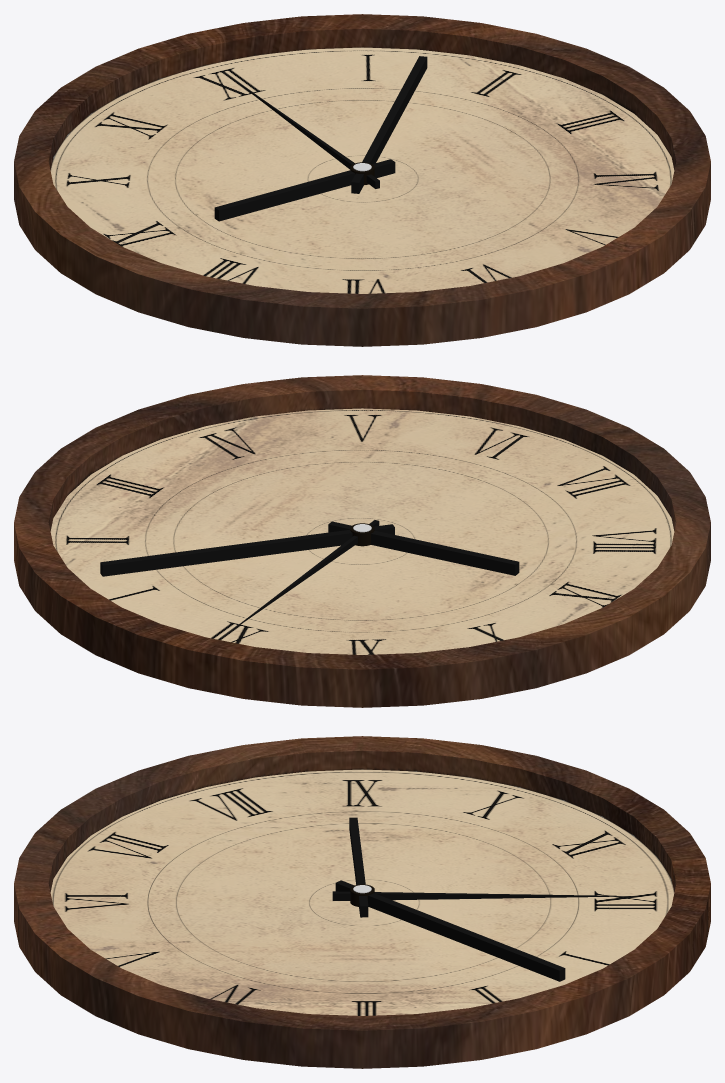
File: OB_wall clock_01.fbx
3 views of the same model, one above another, from view 1: azimuth 30°, elevation 25°; view 2: azimuth 150°, elevation 25°; view 3: azimuth 270°, elevation 25° (orthographic).
Parts seen in each view (by area): view 1: Cylinder001, Box002, Box001, Box003; view 2: Cylinder001, Box001, Box002, Box003; view 3: Cylinder001, Box001, Box003, Box002.
Boxes of the visible parts, x1,y1,x2,y2 form: Cylinder001: (14, 14, 710, 346); Box002: (214, 159, 395, 221); Box001: (351, 56, 427, 193); Box003: (224, 72, 379, 188); Cylinder001: (14, 375, 710, 707); Box001: (100, 524, 394, 576); Box002: (328, 521, 519, 575); Box003: (222, 520, 379, 637); Cylinder001: (14, 736, 710, 1068); Box001: (335, 880, 565, 981); Box003: (332, 891, 637, 900); Box002: (349, 817, 368, 917).
Bounding box in the file's own units: 233 × 233 × 14.09.
3 materials, 1 textured.
